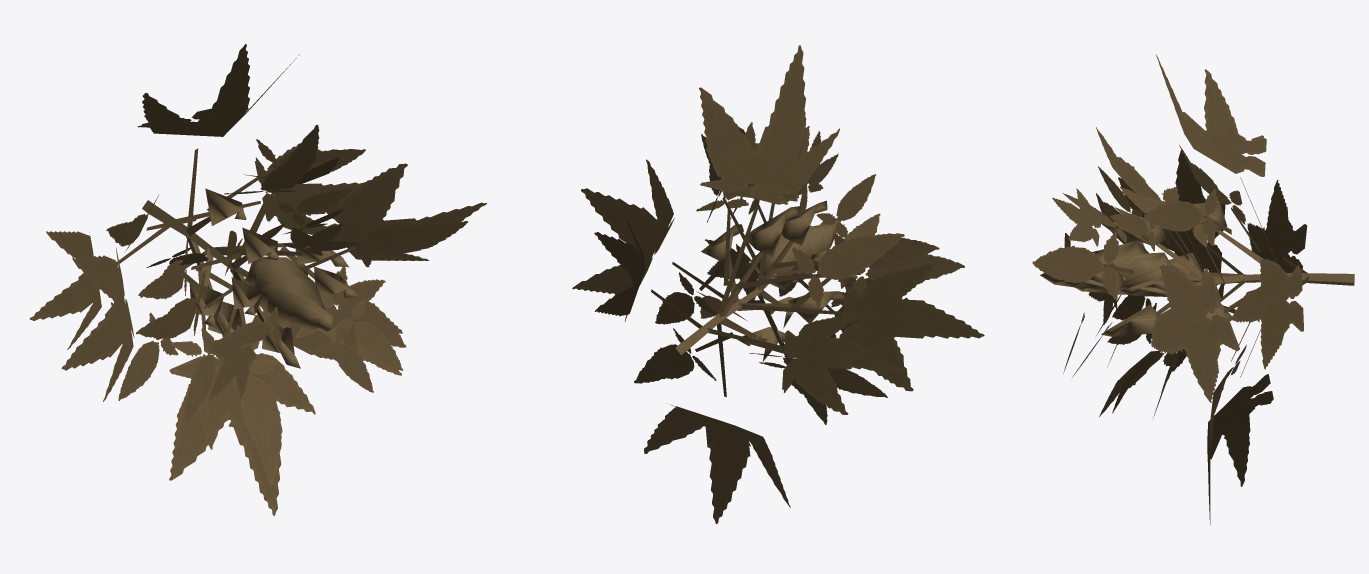
The model's file is p_auto_flowering_c3_cards.obj.
3 views of the same model, side by side, from view 1: azimuth 30°, elevation 25°; view 2: azimuth 150°, elevation 25°; view 3: azimuth 270°, elevation 25° (orthographic). The views are drawn at different scales.
Bounding box in the file's own units: 1.46 × 1.55 × 0.966.
Materials: 1 (1 with a texture image).
